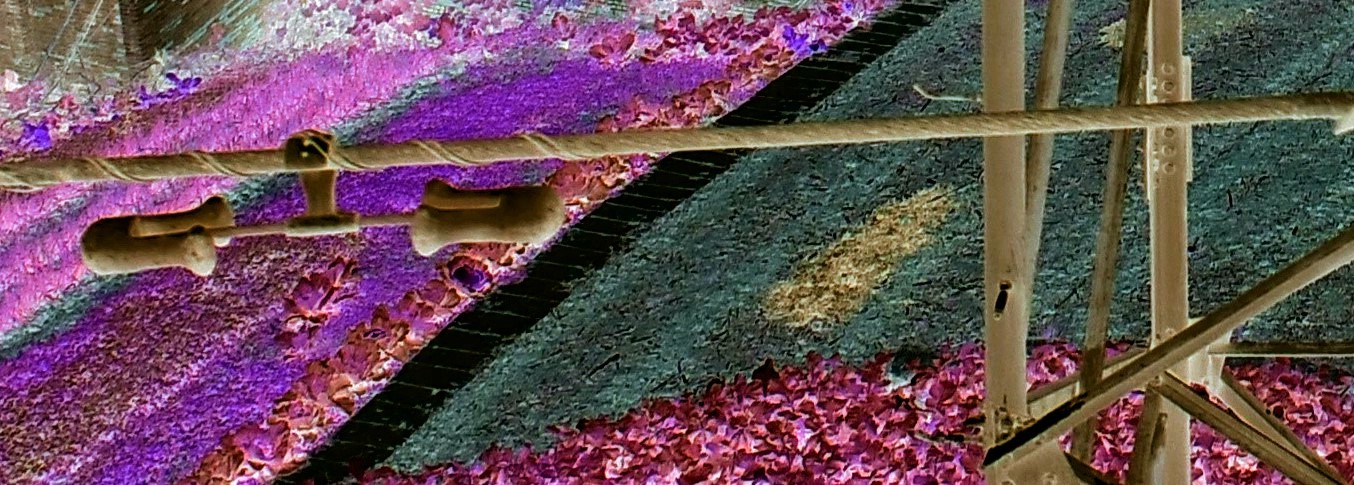Shockproof hammer: (74, 114, 573, 279)
